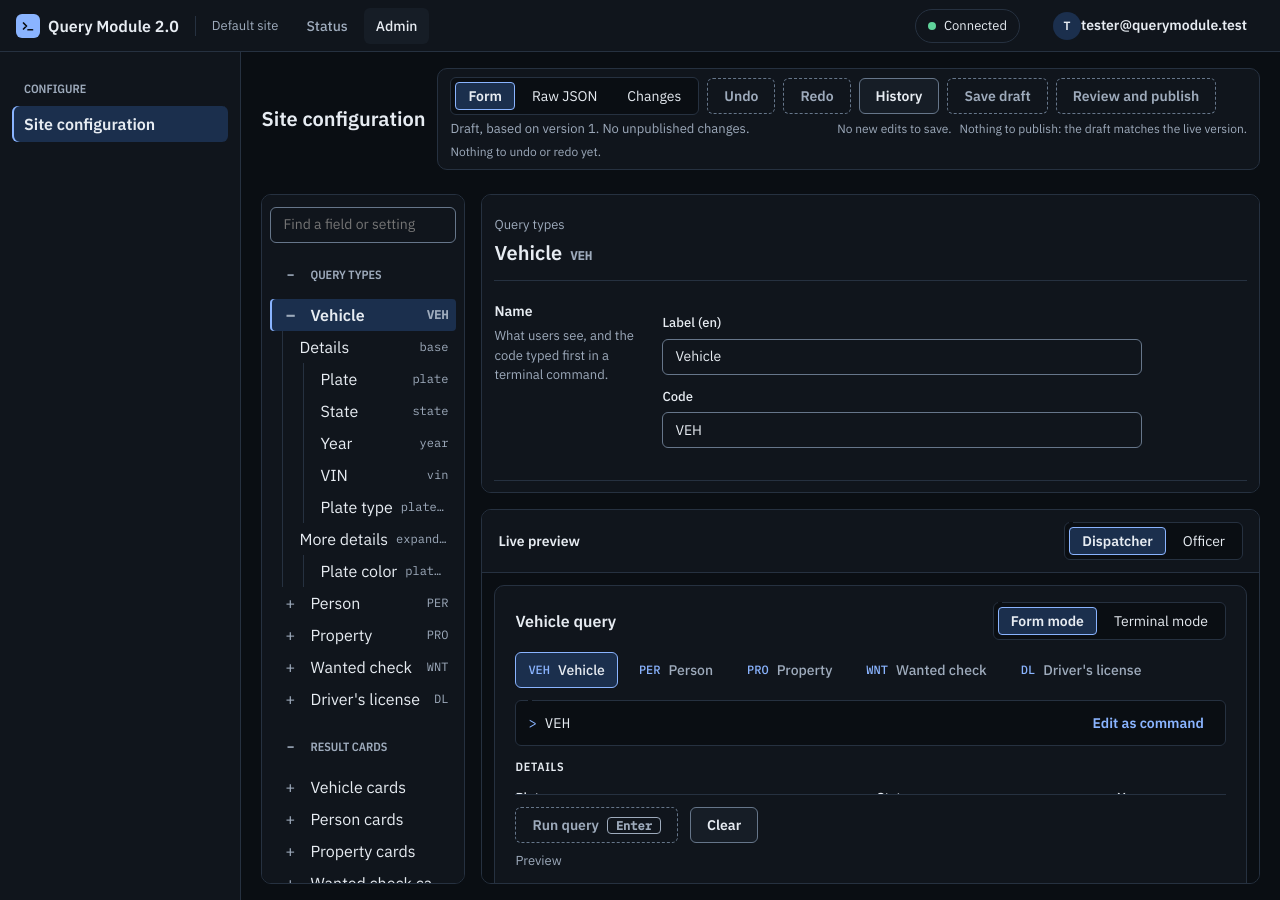
Scenario: the card preview › shows a scenario from the draft's mock by default, through the production card
Click the list item "Vehicle cards" at (342, 786), box [278,774,406,798]
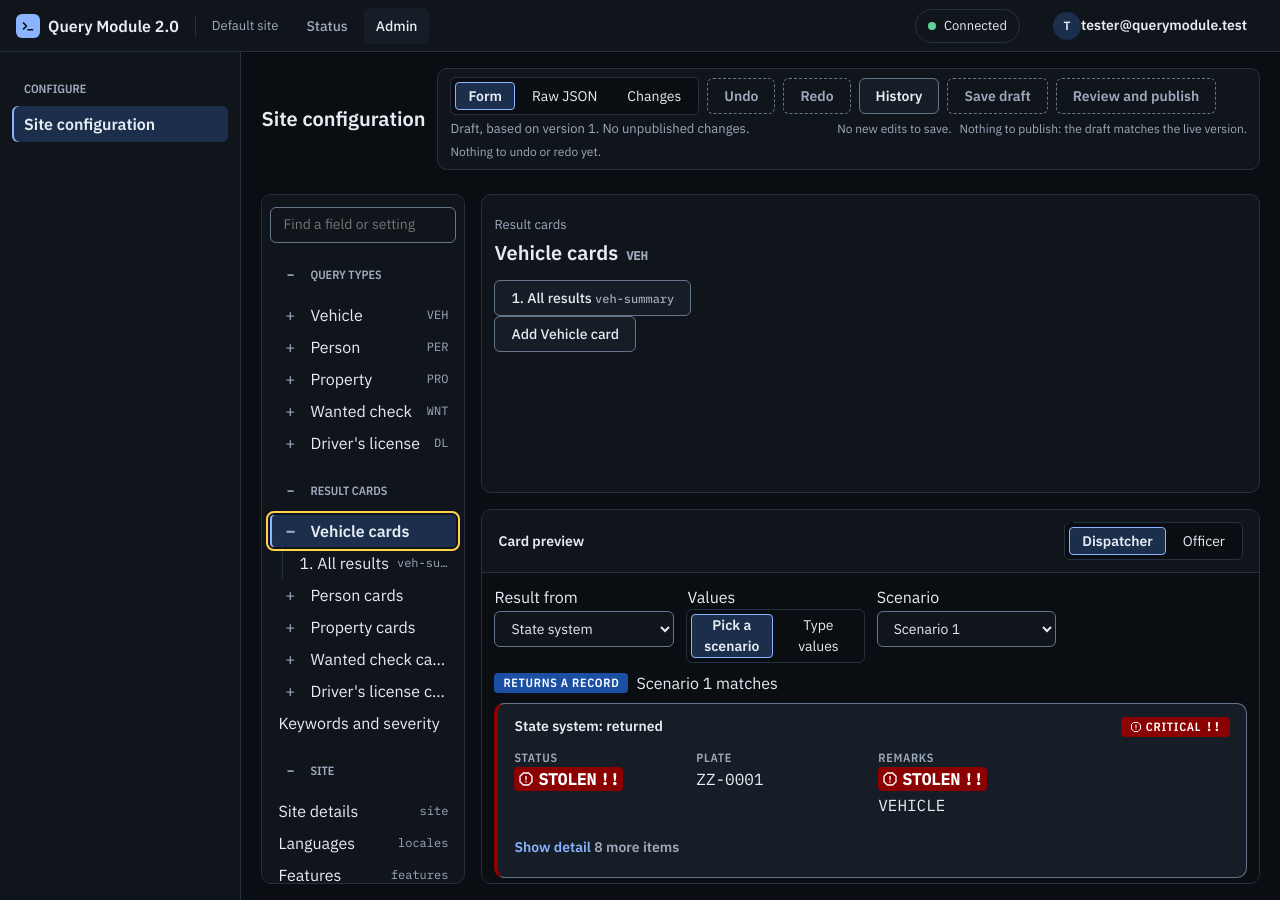
Click the list item "1. All results veh-summary" below "DL" at (374, 562), box [291,546,456,578]
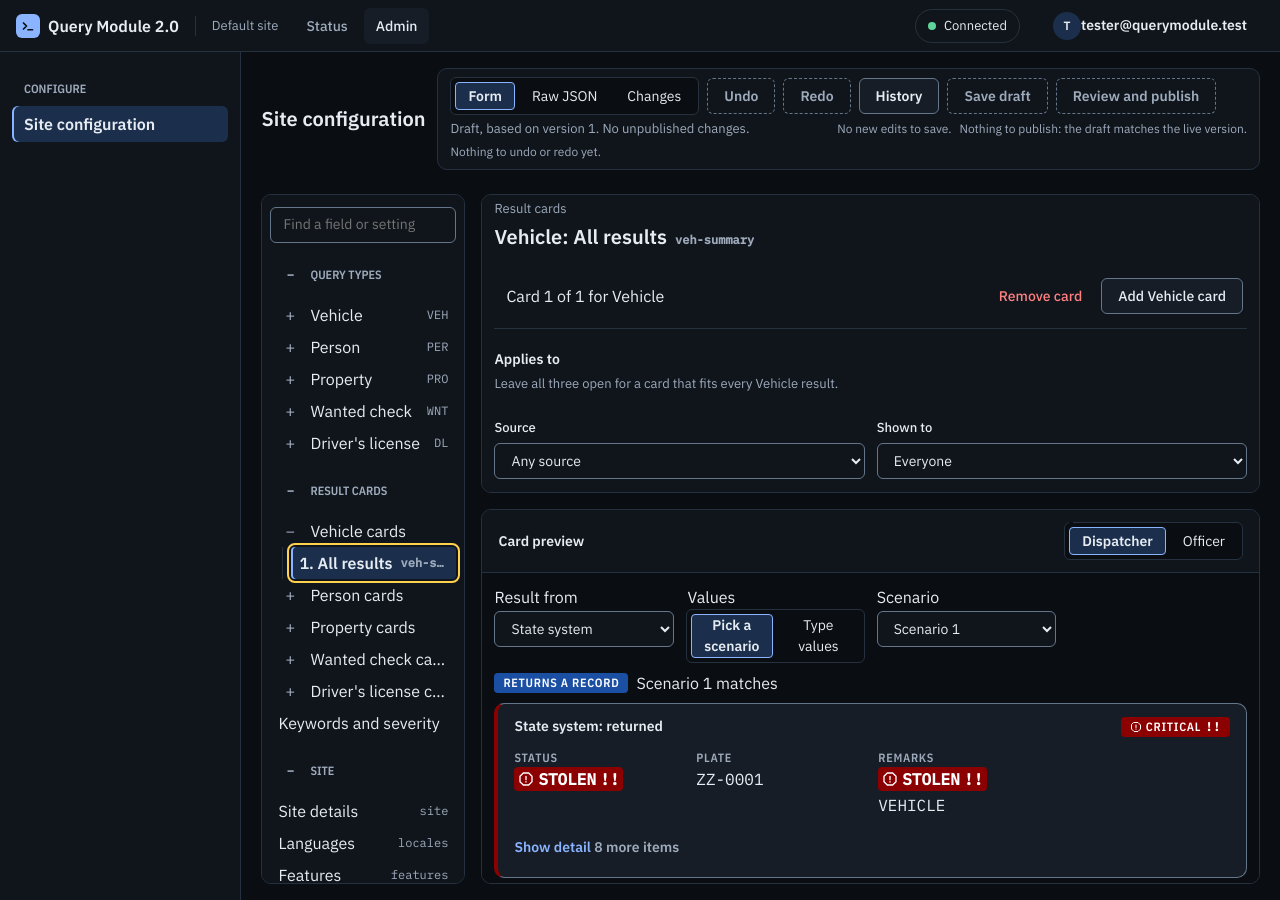
Result: the element "Card preview" is shown at [481,509,1260,884]
Result: the radio button labelled "Pick a scenario" is checked at [691,614,773,658]
Select "Scenario 1" in the dropdown labelled "Scenario" at (966, 629), box [877,611,1056,647]
(page scrolled)
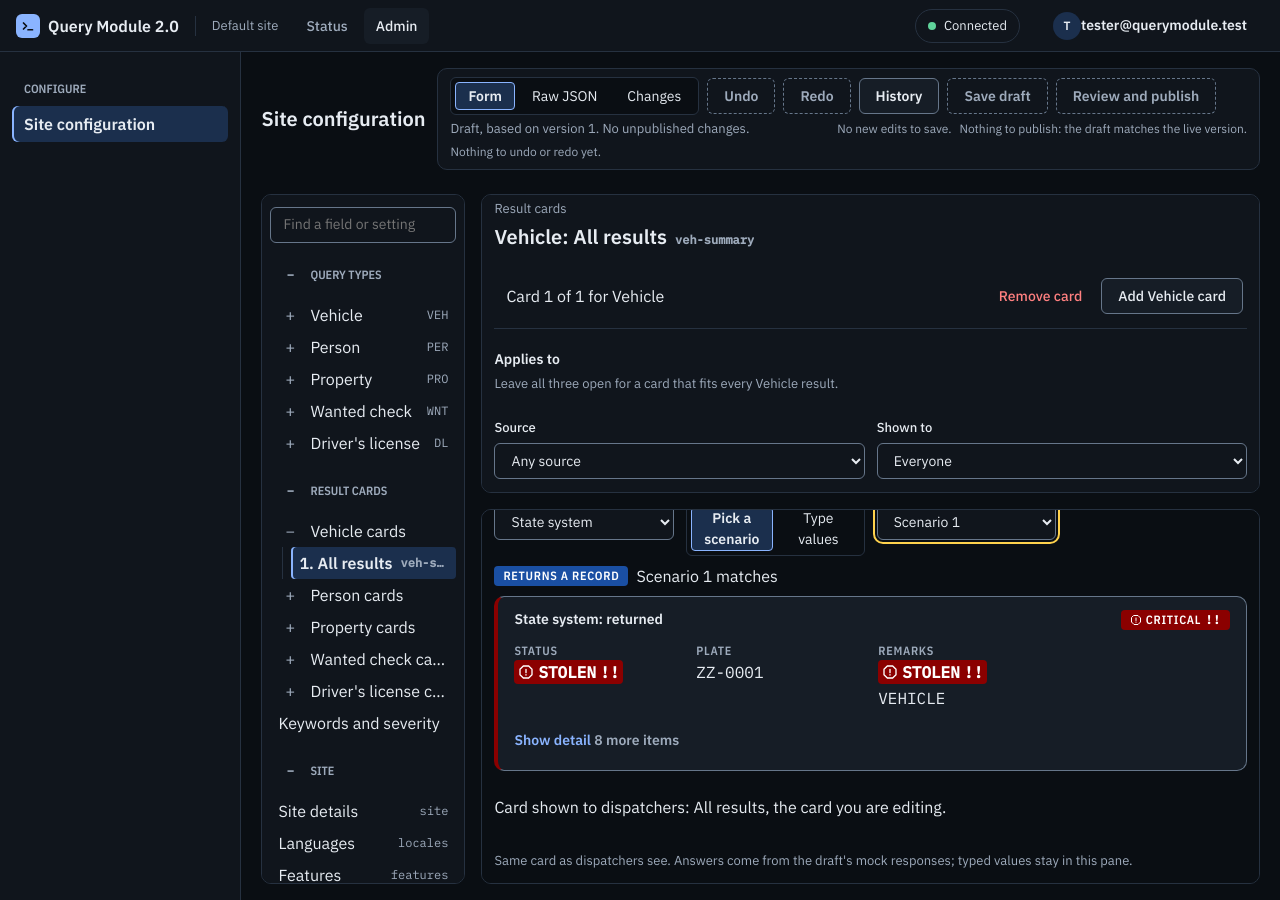
Result: the text "Remarks" is shown at [878,643,934,658]
Result: the 1st element showing "STOLEN !!" is shown at [514,660,623,684]
Result: the text "the card you are editing" is shown at [494,797,946,817]
